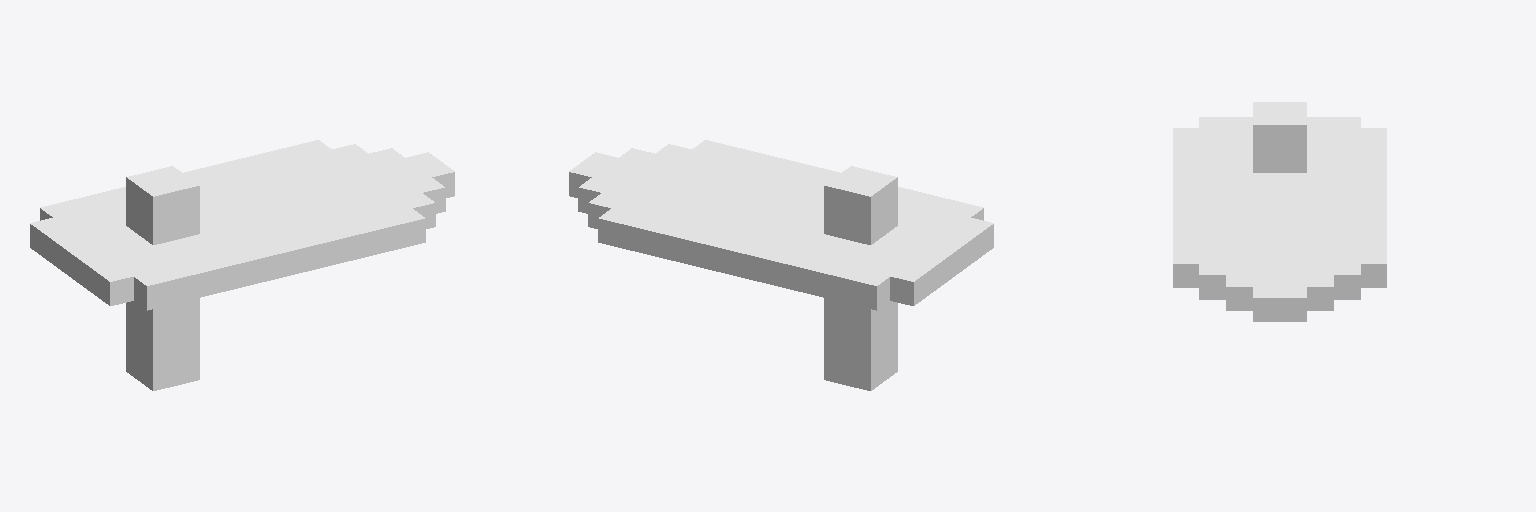
File: trap_blade.obj
The picture shows the model from 3 angles: view 1: azimuth 30°, elevation 25°; view 2: azimuth 150°, elevation 25°; view 3: azimuth 270°, elevation 25°; orthographic projection.
Size of the model in its own units: 2 by 1 by 1.